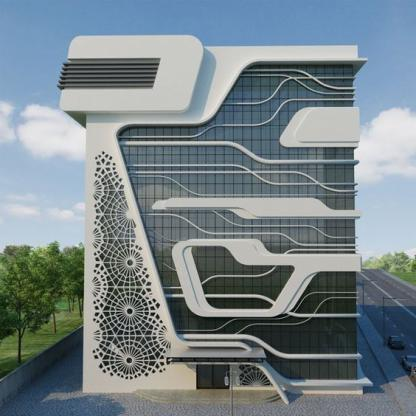Building Outline: (56, 35, 372, 395)
Deco: (91, 150, 173, 381), (172, 239, 361, 317), (151, 198, 362, 219), (280, 106, 360, 150), (238, 364, 274, 387)
Door: (197, 364, 230, 389)
Facade: (56, 34, 373, 395)
Glass Wall: (118, 64, 357, 380)
